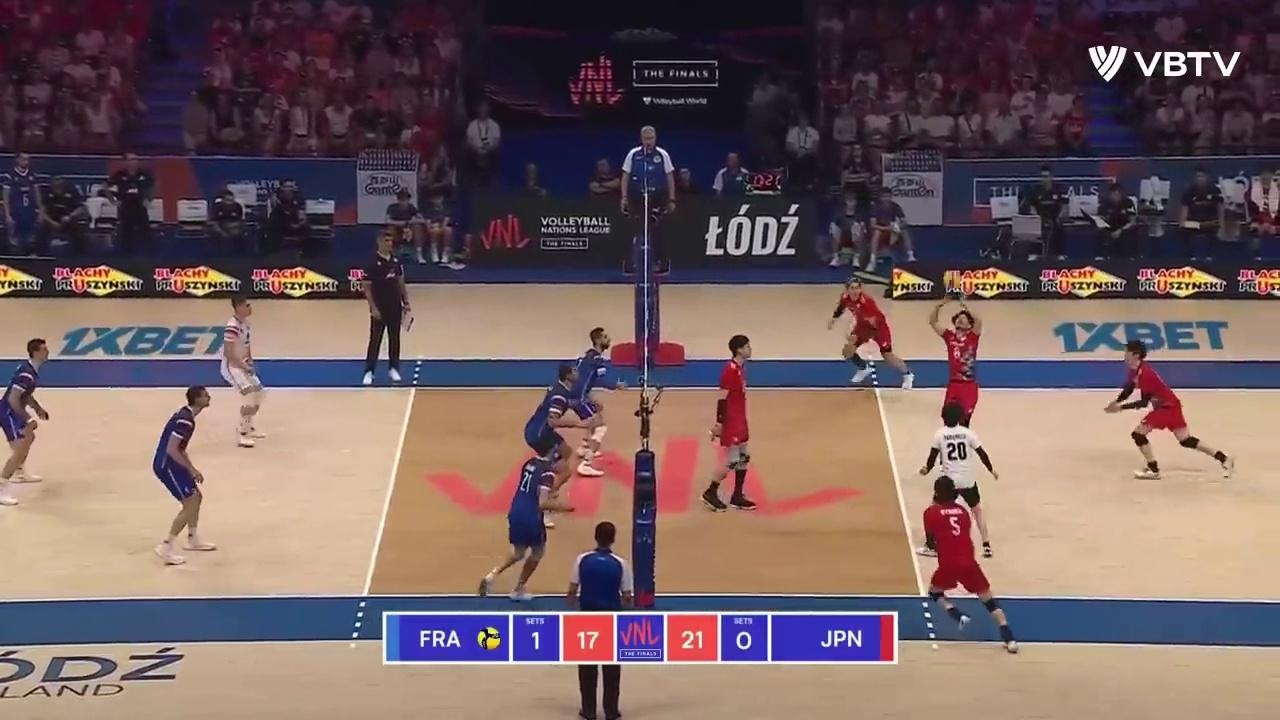ball: (945, 273, 962, 293)
